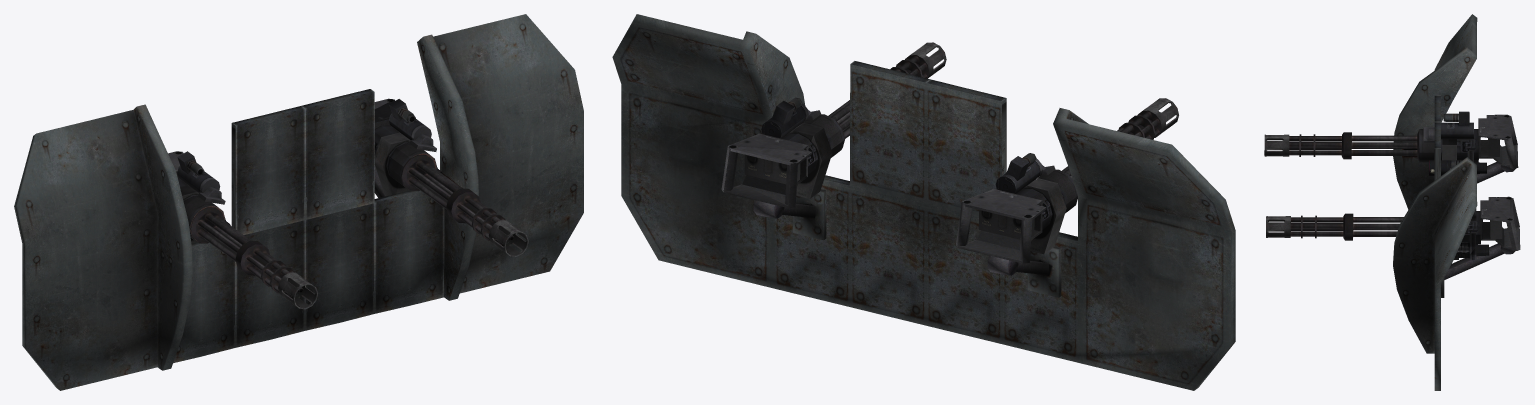
Rendered from turretWithoutBase.FBX.
3 renders of one model, left to right at view 1: azimuth 30°, elevation 25°; view 2: azimuth 150°, elevation 25°; view 3: azimuth 270°, elevation 25°, orthographic. The views are drawn at different scales.
Parts seen in each view (by area): view 1: GunPart, GunNali01, GunNali, Gun01, Gun; view 2: GunPart, Gun01, Gun, GunNali01, GunNali; view 3: GunPart, Gun, GunNali, GunNali01, Gun01.
Boxes of the visible parts, <box> form: GunPart: <box>14,14,583,390</box>; GunNali01: <box>401,154,528,256</box>; GunNali: <box>190,207,317,309</box>; Gun01: <box>374,98,442,196</box>; Gun: <box>168,151,230,243</box>; GunPart: <box>612,14,1235,390</box>; Gun01: <box>721,97,844,207</box>; Gun: <box>956,153,1077,263</box>; GunNali01: <box>828,42,946,148</box>; GunNali: <box>1062,98,1178,178</box>; GunPart: <box>1393,14,1515,390</box>; Gun: <box>1419,111,1518,175</box>; GunNali: <box>1264,130,1419,160</box>; GunNali01: <box>1266,213,1403,240</box>; Gun01: <box>1454,196,1520,259</box>.
Size of the model in its own units: 144 by 72.64 by 60.51.
2 materials, 2 textured.
